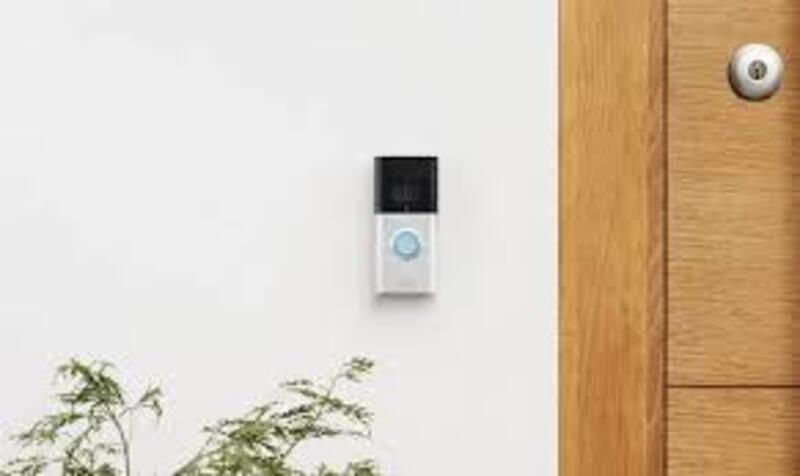doorbell: (369, 148, 443, 300)
